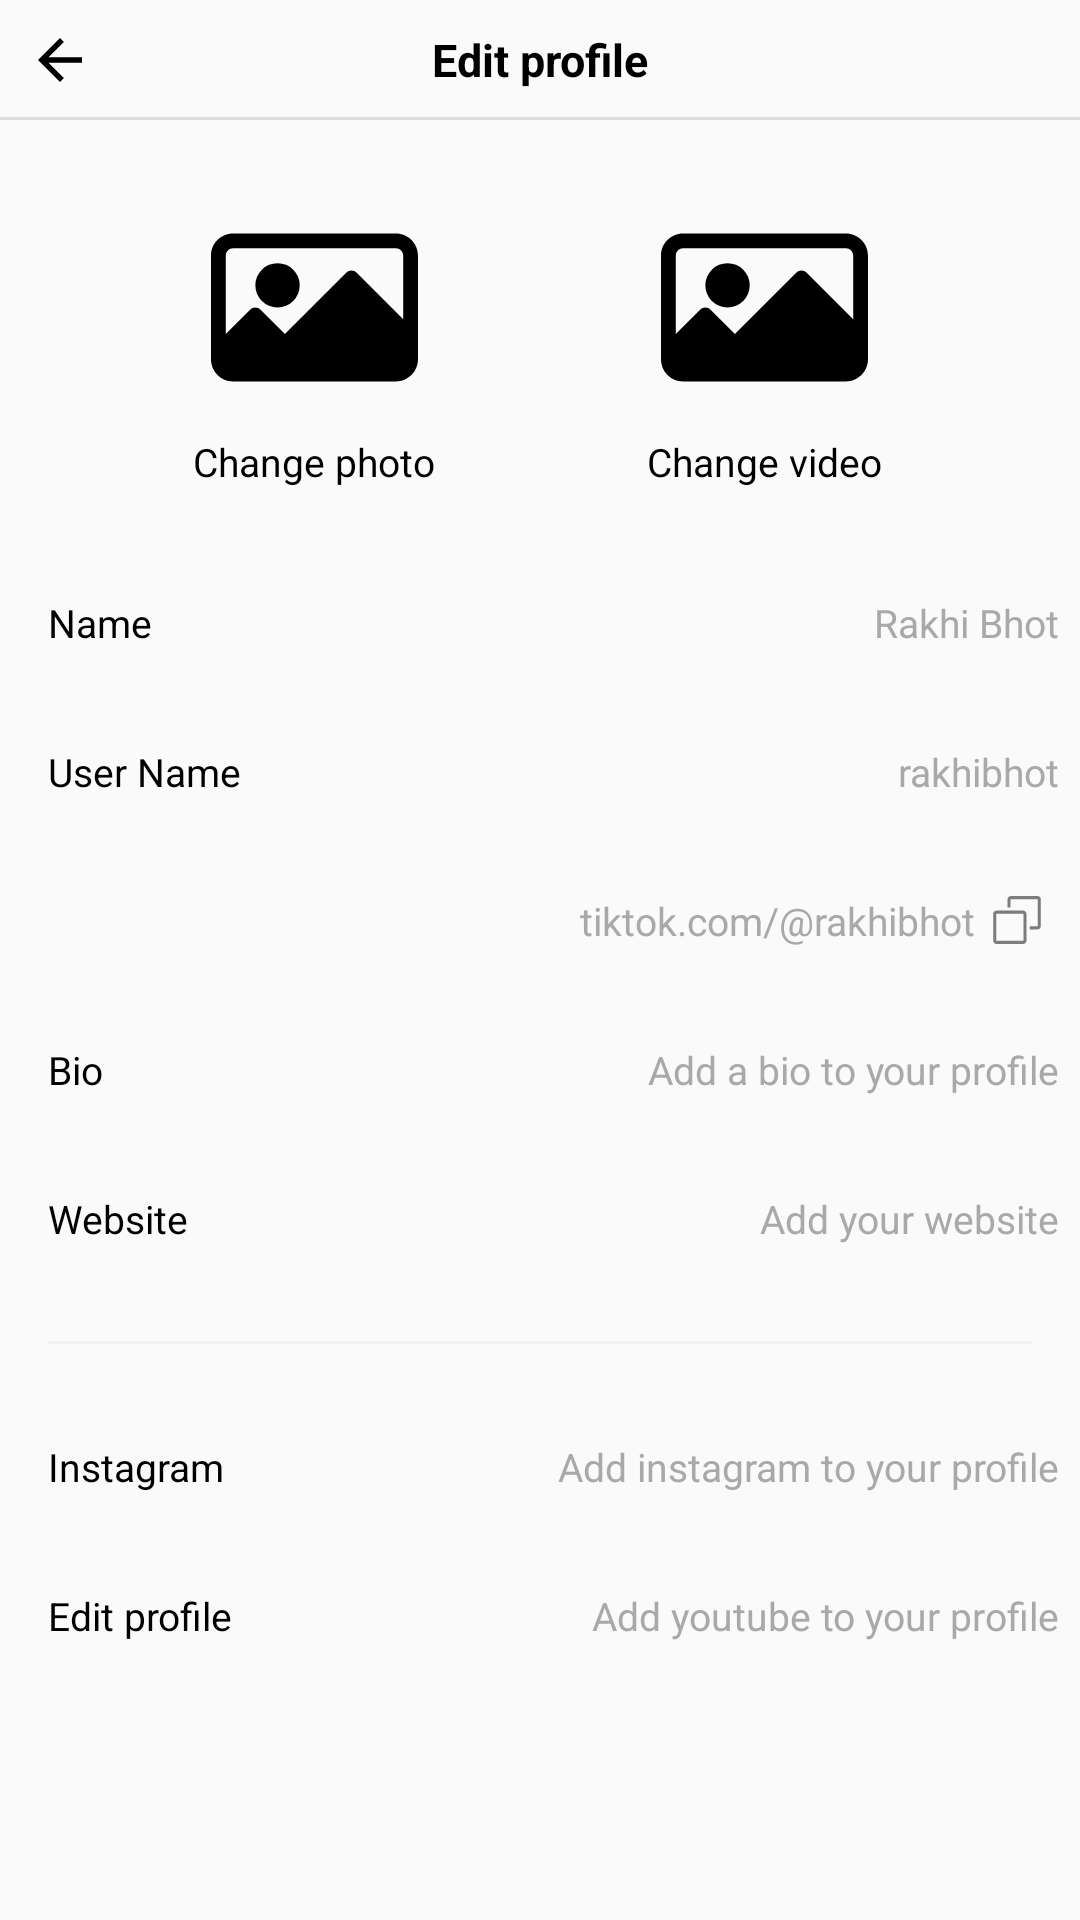

Locate icon controls on the screen. Image size 1080w x 1920h, boxes as (x1, y1, x2, y2).
arrow back: (38, 38, 82, 82)
